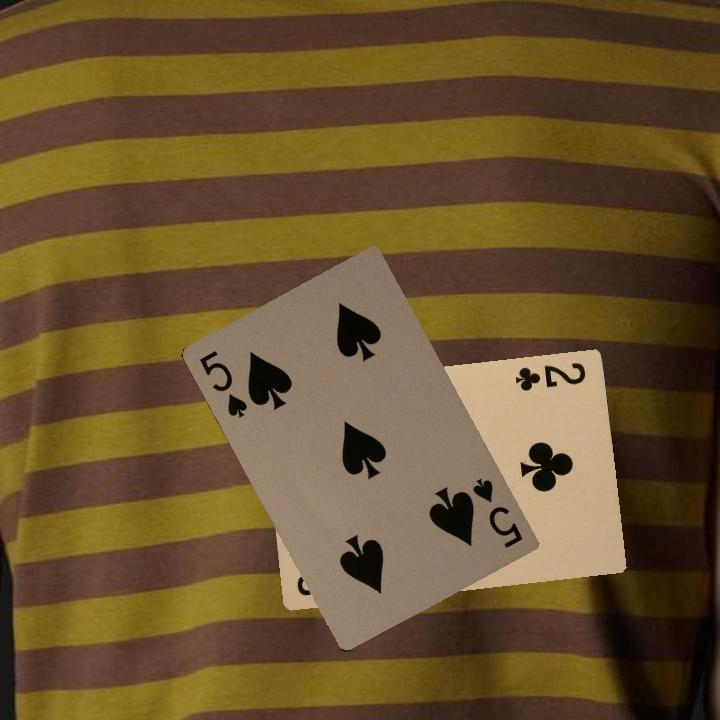2c: (511, 358, 588, 394)
5s: (468, 474, 526, 551), (195, 346, 250, 421)
